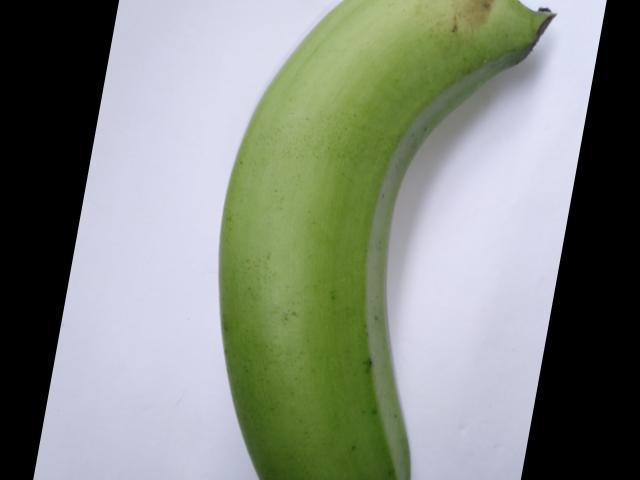freshunripe: (197, 0, 578, 479)
